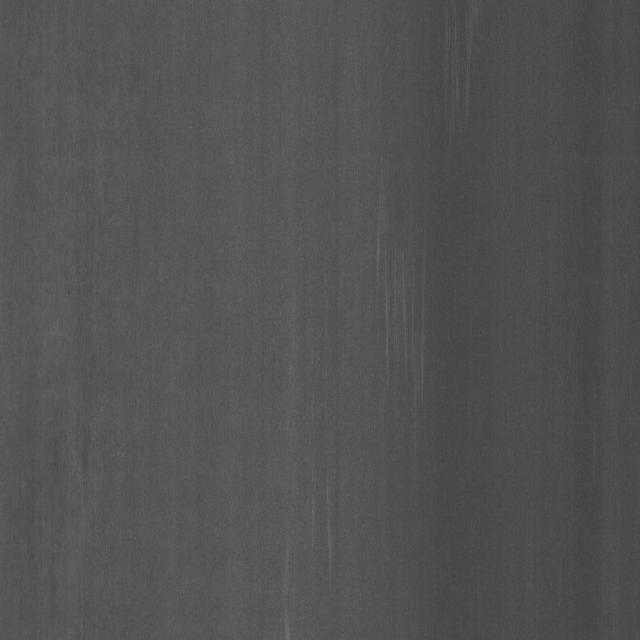inclusion: (356, 179, 438, 426)
